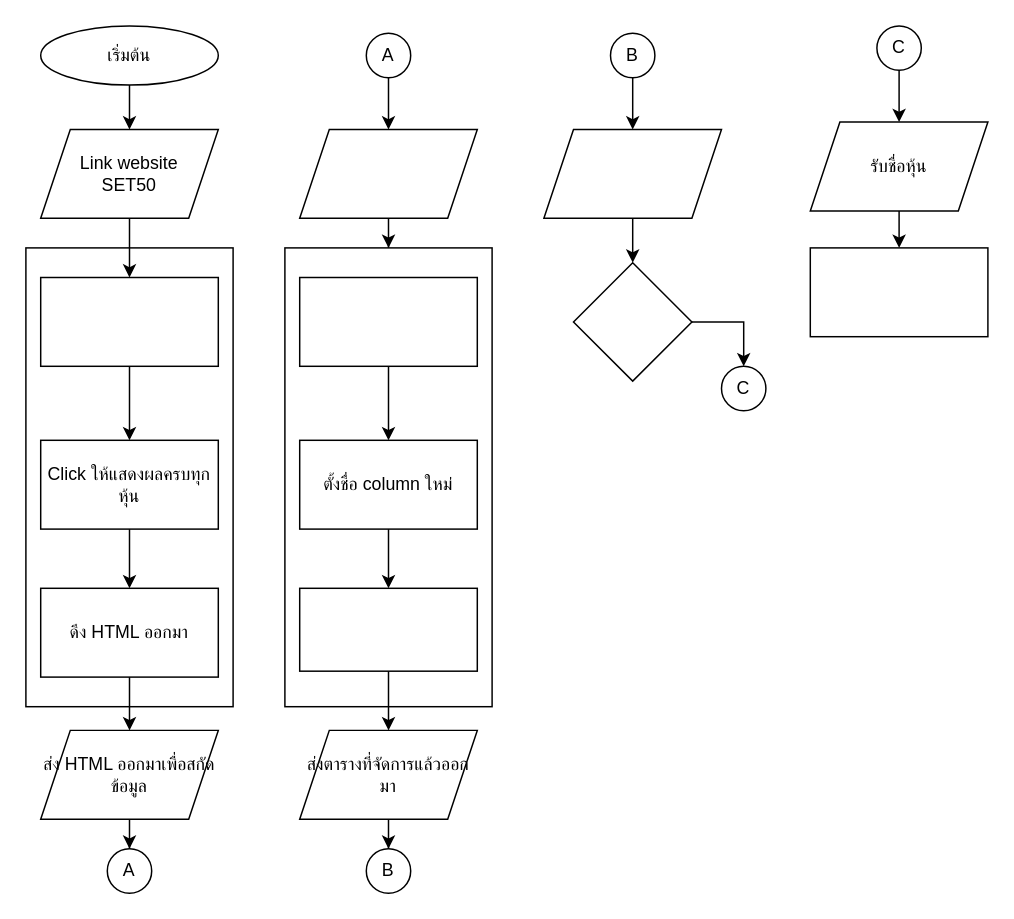
Image size: 1014x919. Some labels were removed from this diagram. The shapes that lost their labels are listed below. From the top down, each one's centre as x and y in pixels, then its label:
At (387,173): "รับ HTML มา".
At (632,173): "รับตารางมา".
At (898,291): "สร้าง Link สำหรับไปเก็บข้อมูล".
At (128,321): "เปิด Website SET50".
At (387,321): "ดึงตารางที่ต้องการจาก HTML".
At (632,321): "ทำซ้ำกับทุกหุ้น".
At (387,629): "set index เป็นชื่อหุ้น".
